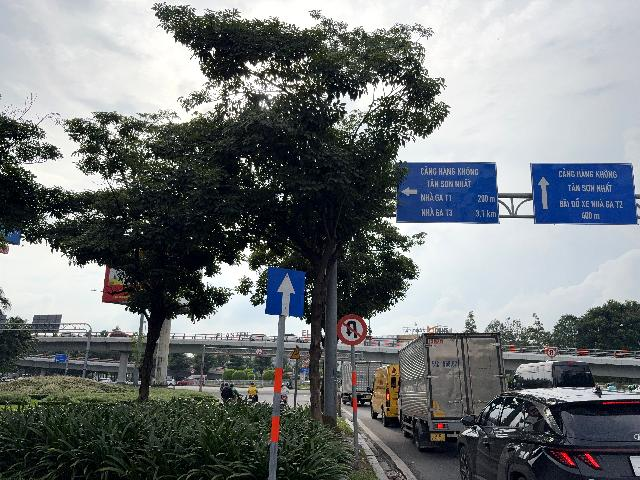cam-quay-dau-xe: (336, 314, 367, 346)
duong-mot-chieu: (265, 266, 305, 318)
